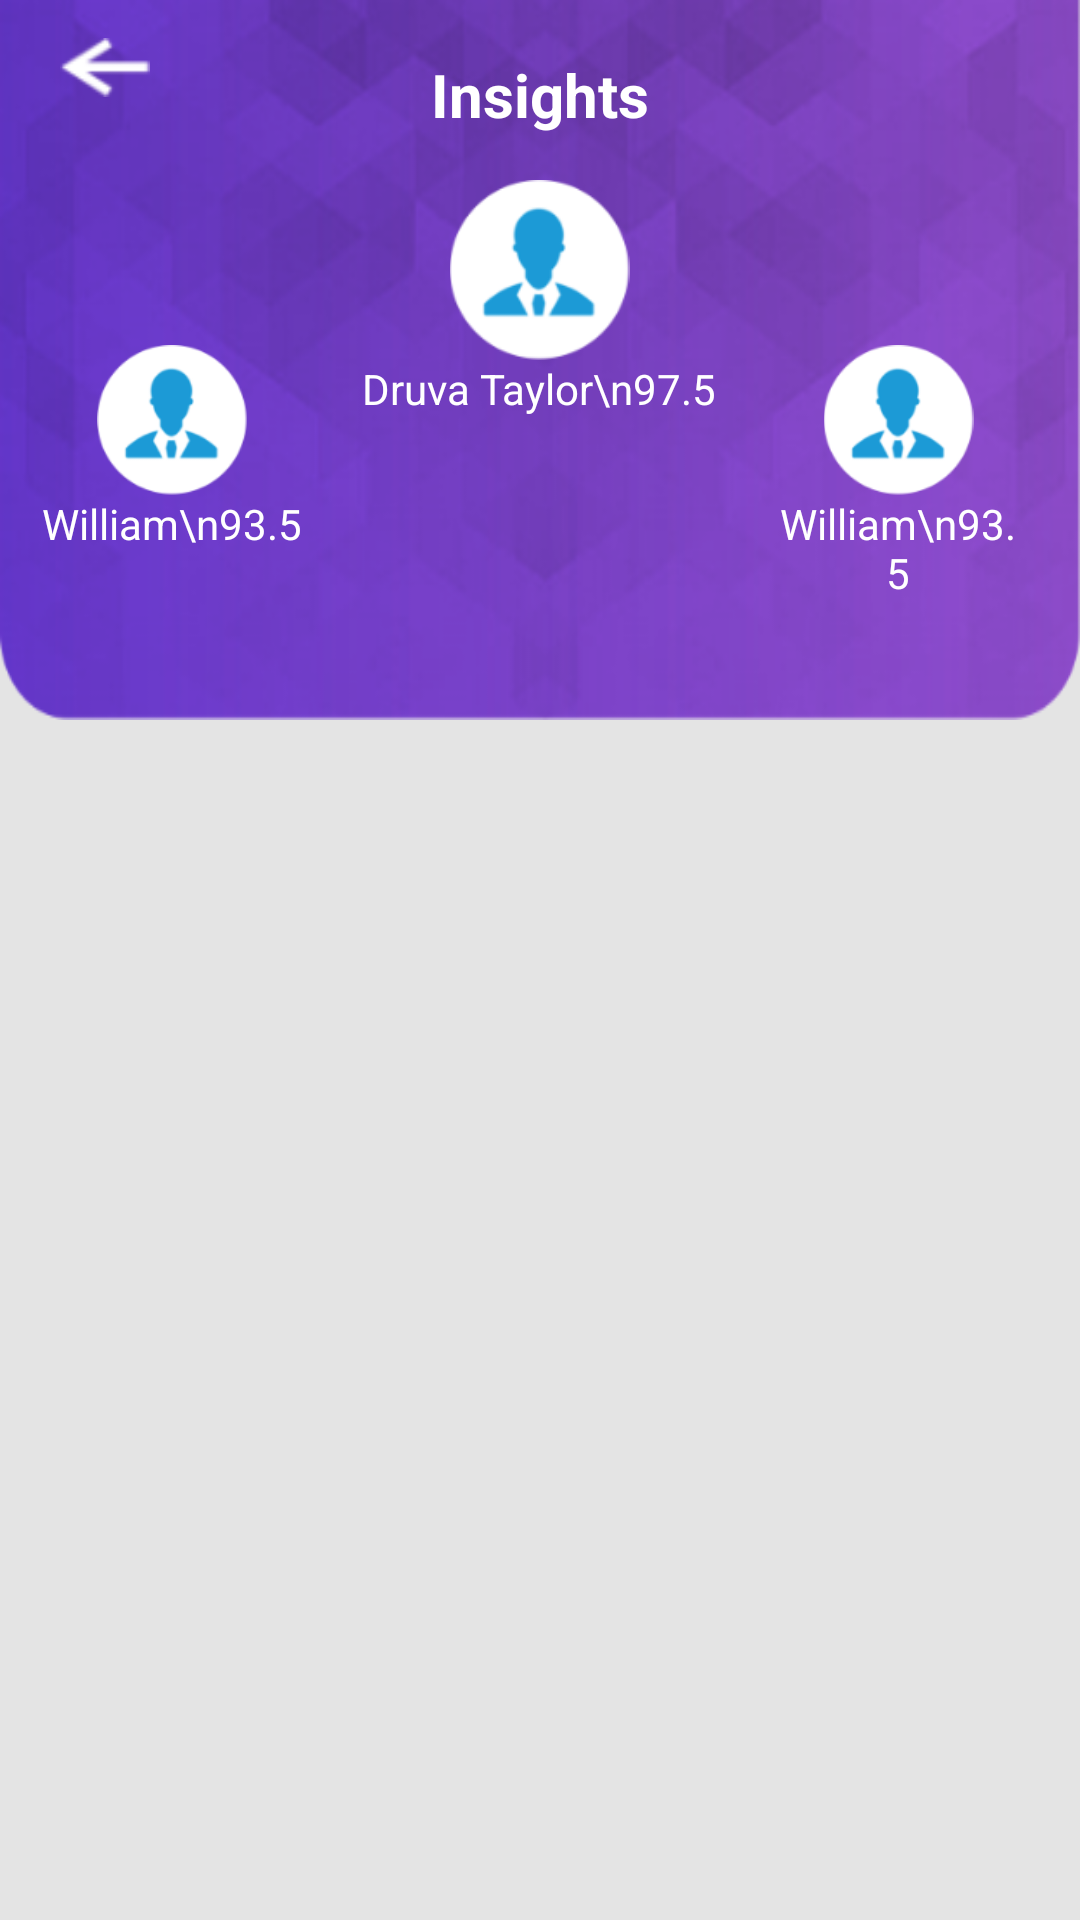

Screen size 1080 × 1920. Icon name, then its box in pixels as {"x1": x1, "y1": y1, "x2": x2, "y2": y2}:
back: {"x1": 61, "y1": 38, "x2": 150, "y2": 97}
user profile: {"x1": 450, "y1": 180, "x2": 630, "y2": 360}, {"x1": 97, "y1": 345, "x2": 247, "y2": 495}, {"x1": 824, "y1": 345, "x2": 974, "y2": 495}
